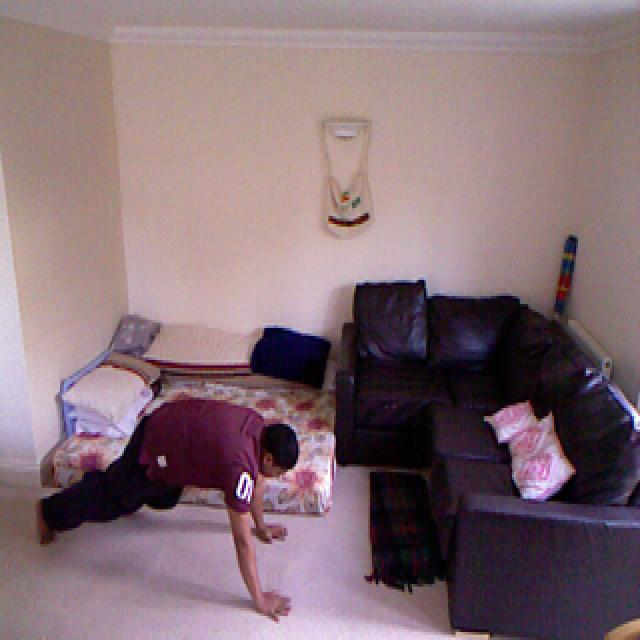Fall: (30, 354, 328, 633)
